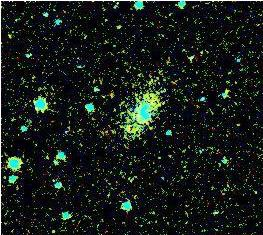star: (217, 80, 247, 110)
